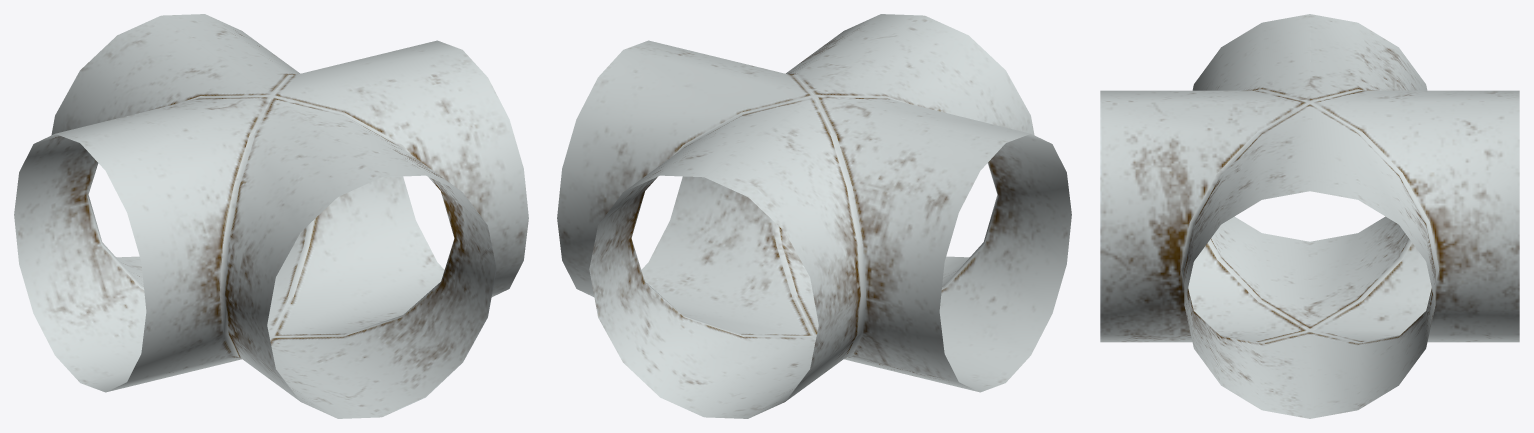
Rendered from cross.glb.
The picture shows the model from 3 angles, left to right: view 1: azimuth 30°, elevation 25°; view 2: azimuth 150°, elevation 25°; view 3: azimuth 270°, elevation 25°; orthographic projection. The views are drawn at different scales.
Visible parts, largest first — view 1: duct_crossSection_low_2; view 2: duct_crossSection_low_2; view 3: duct_crossSection_low_2.
Part boxes in pixels (x1,y1,x2,y2): duct_crossSection_low_2: [14, 14, 528, 418]; duct_crossSection_low_2: [557, 14, 1071, 418]; duct_crossSection_low_2: [1100, 14, 1519, 418].
Bounding box in the file's own units: 0.5 × 0.3 × 0.5.
Materials: 1 (1 with a texture image).
